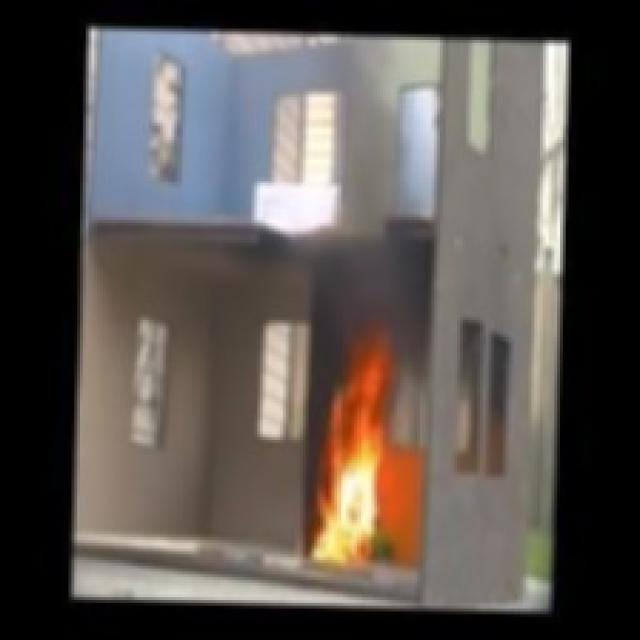fire: (303, 343, 411, 560)
